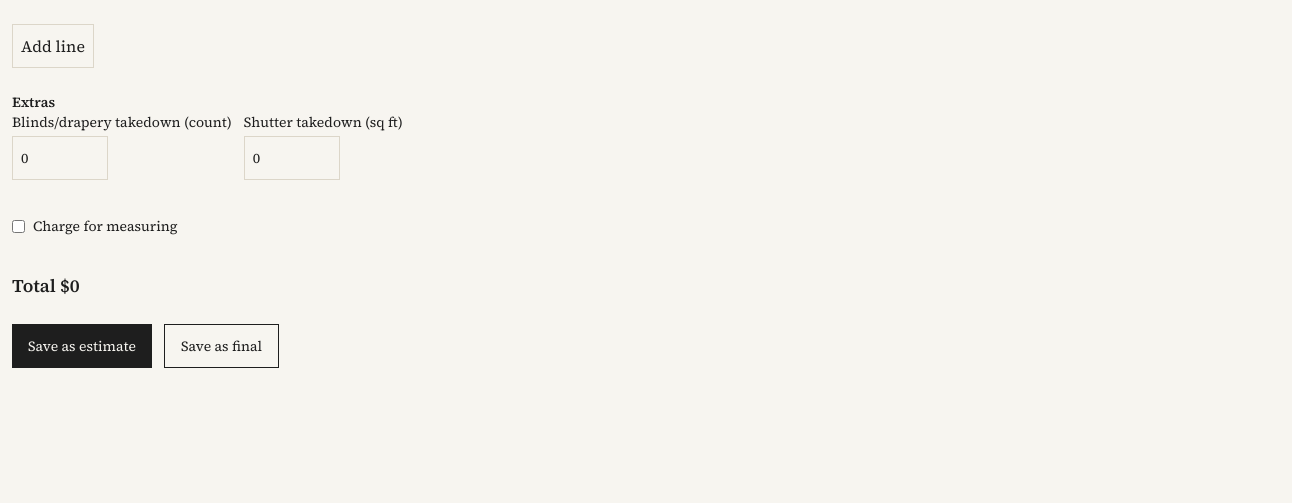
Test case: InstallCalculator › does not charge for measuring until the owner ticks the box
The width and height of the screenshot is (1292, 503).
Check: the checkbox labelled "Charge for measuring" is not checked, box left=12, top=220, right=25, bottom=232
Click the button "Add line": (53, 46) left=12, top=24, right=94, bottom=68
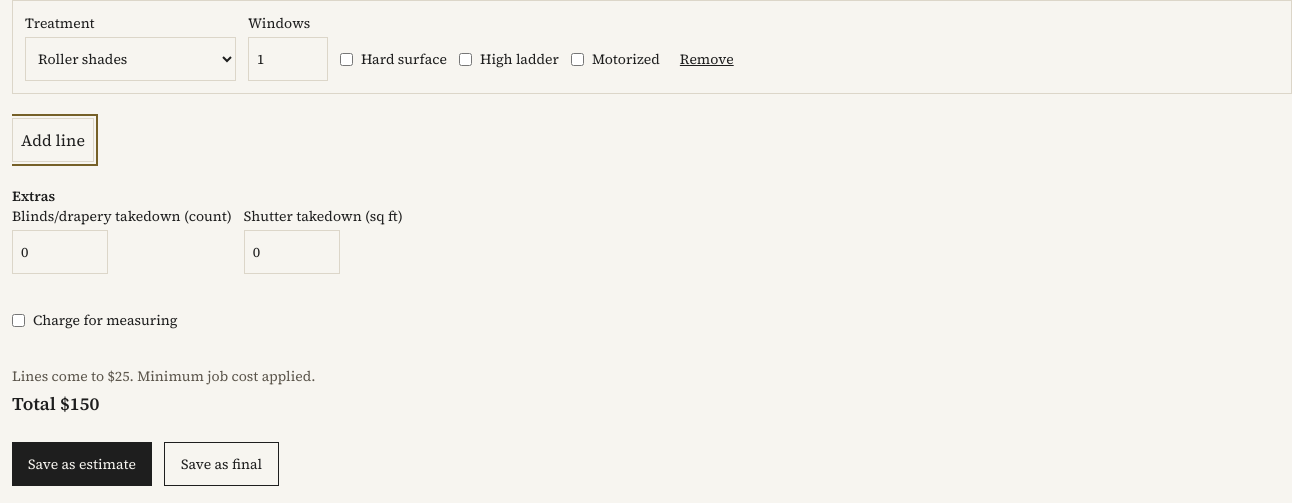
Replace the text in the field labelled "Windows" with "10": (288, 59) left=248, top=37, right=328, bottom=81
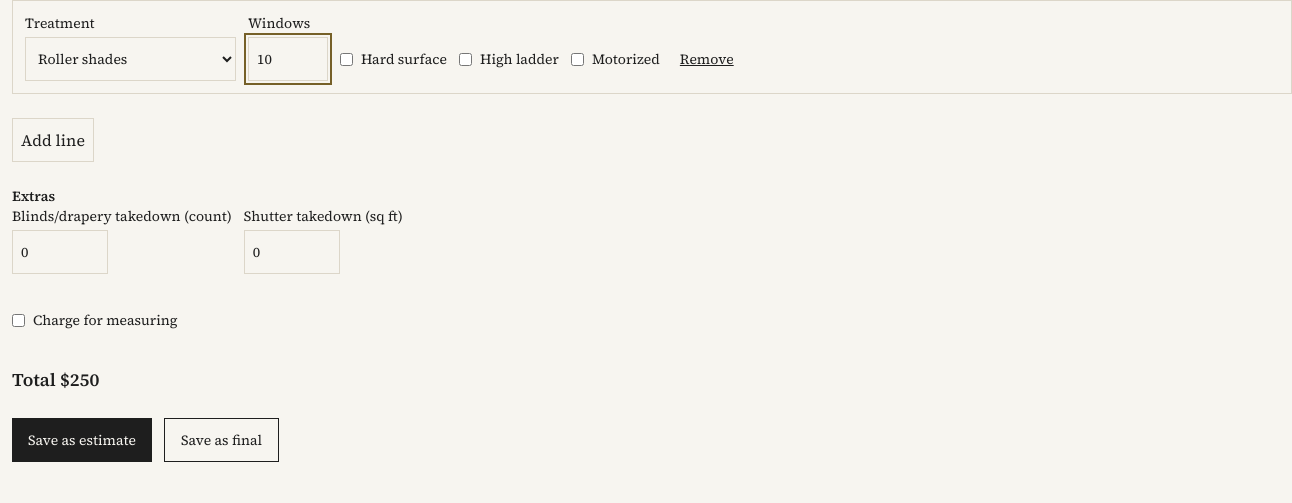
Check: the text with test id "install-total" reads "$250", box left=60, top=367, right=99, bottom=392
